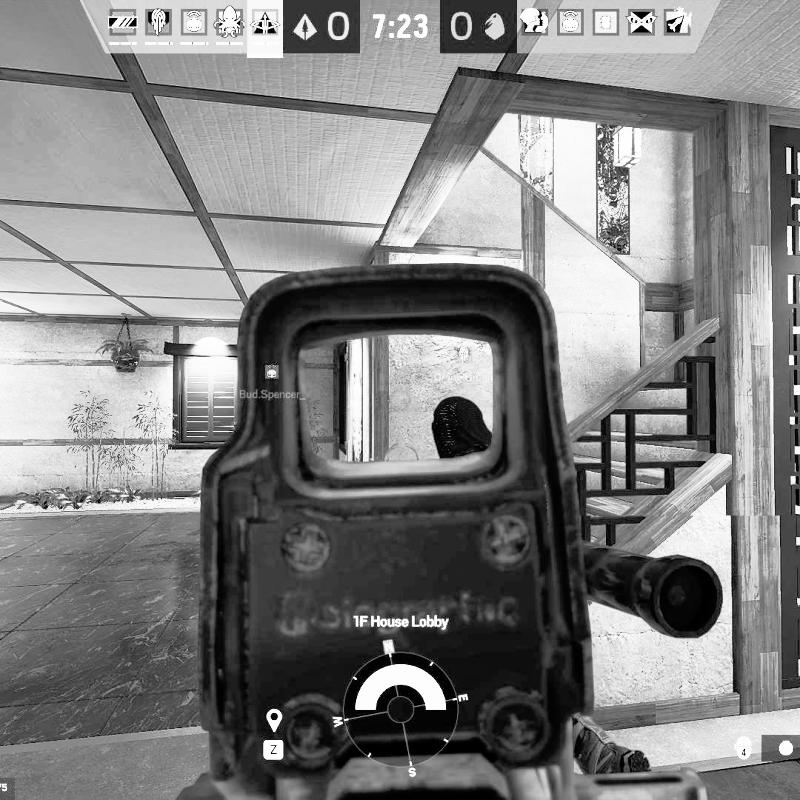Character: (427, 393, 496, 463)
Friend_label: (233, 362, 313, 404), (432, 344, 494, 386), (601, 484, 602, 485)
Head: (432, 396, 490, 456)
